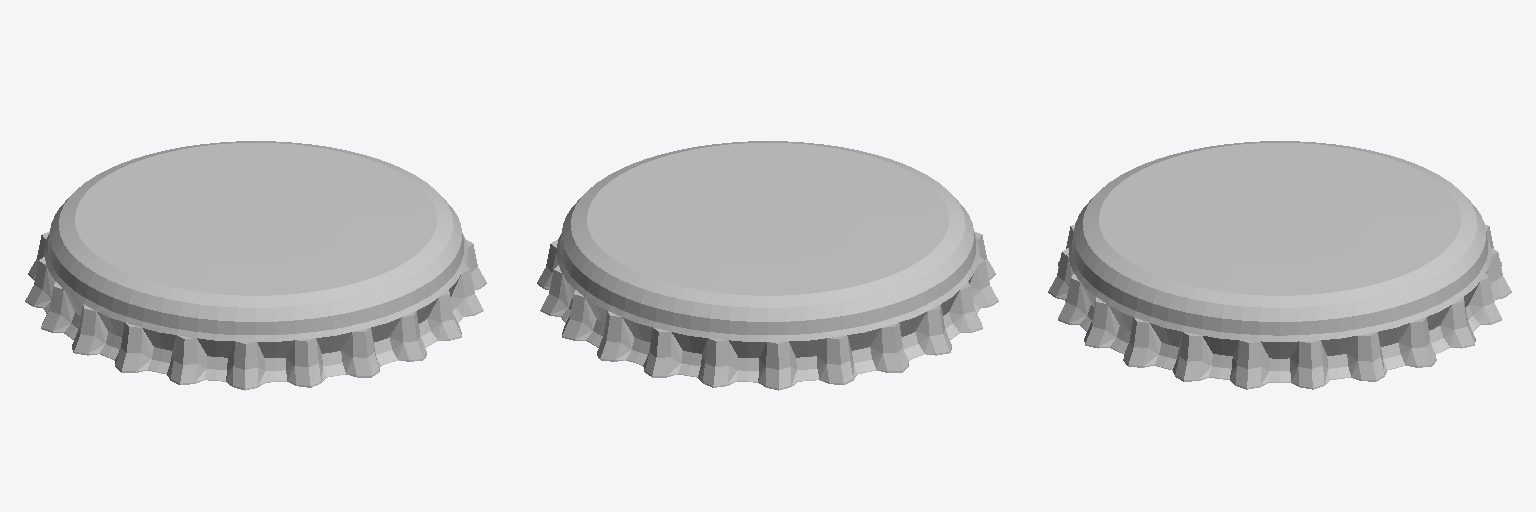
File: bottlecap.obj
3 views of the same model, side by side, from view 1: azimuth 30°, elevation 25°; view 2: azimuth 150°, elevation 25°; view 3: azimuth 270°, elevation 25° (orthographic).
Parts seen in each view (by area): view 1: Cap; view 2: Cap; view 3: Cap.
Boxes of the visible parts, <box> form: Cap: <box>25,141,486,390</box>; Cap: <box>537,141,998,390</box>; Cap: <box>1048,141,1511,389</box>.
Bounding box in the file's own units: 273 × 48.88 × 275.